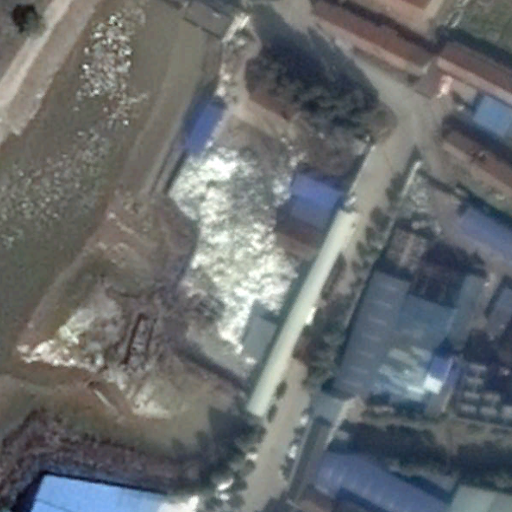msw: (163, 150, 302, 346)
